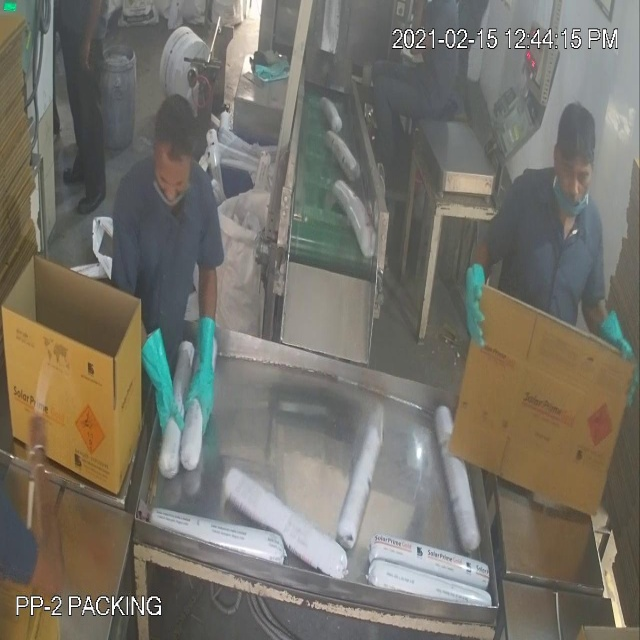Guantes: (174, 314, 225, 442), (135, 306, 180, 444), (456, 252, 489, 356)
Sin_guantes: (24, 370, 64, 605), (80, 1, 107, 99)
